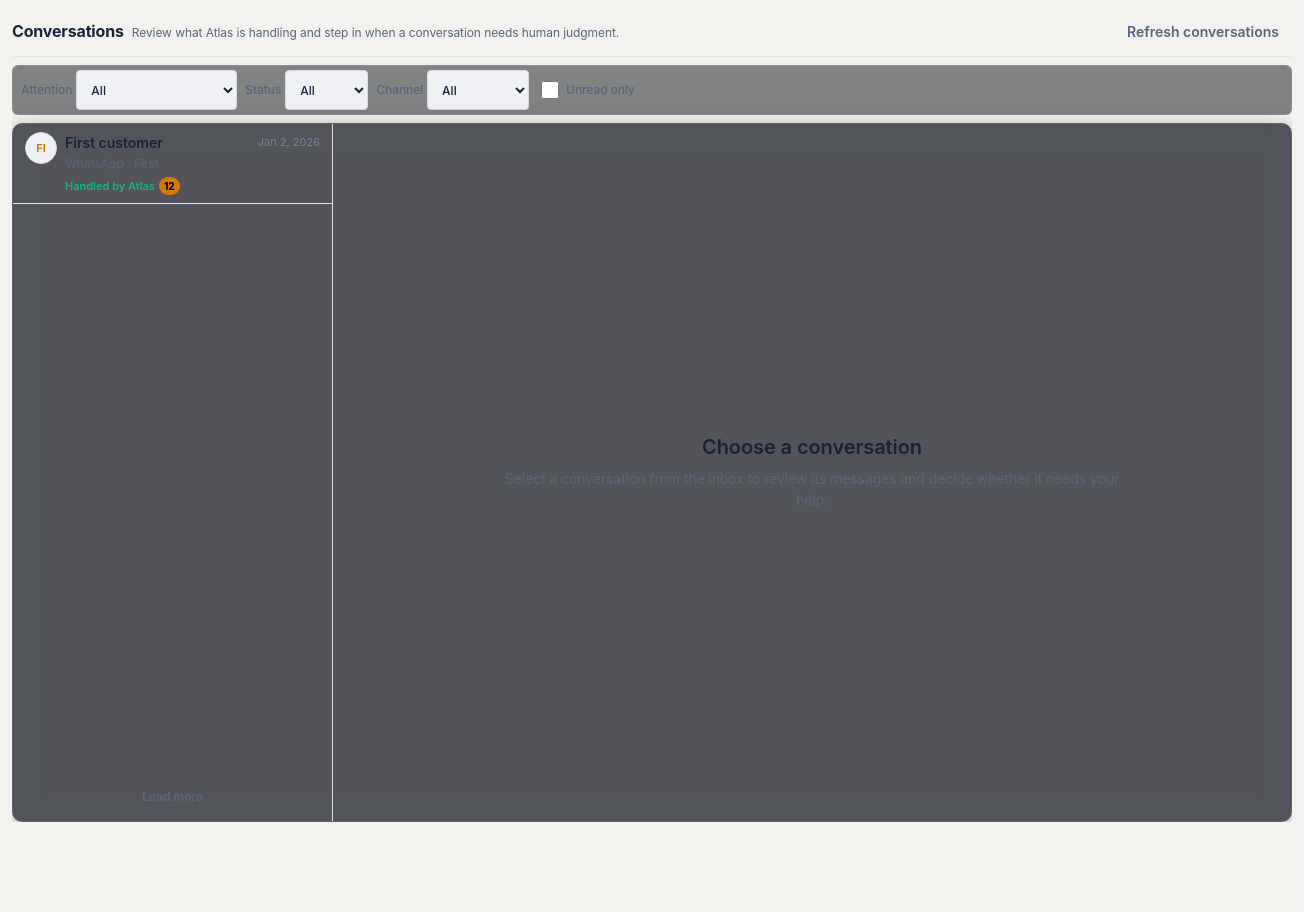
Scenario: appends cursor pages and marks the selected conversation read without a reload
The image size is (1304, 912).
Click the text "First customer": x=114, y=142 [65, 132, 163, 153]
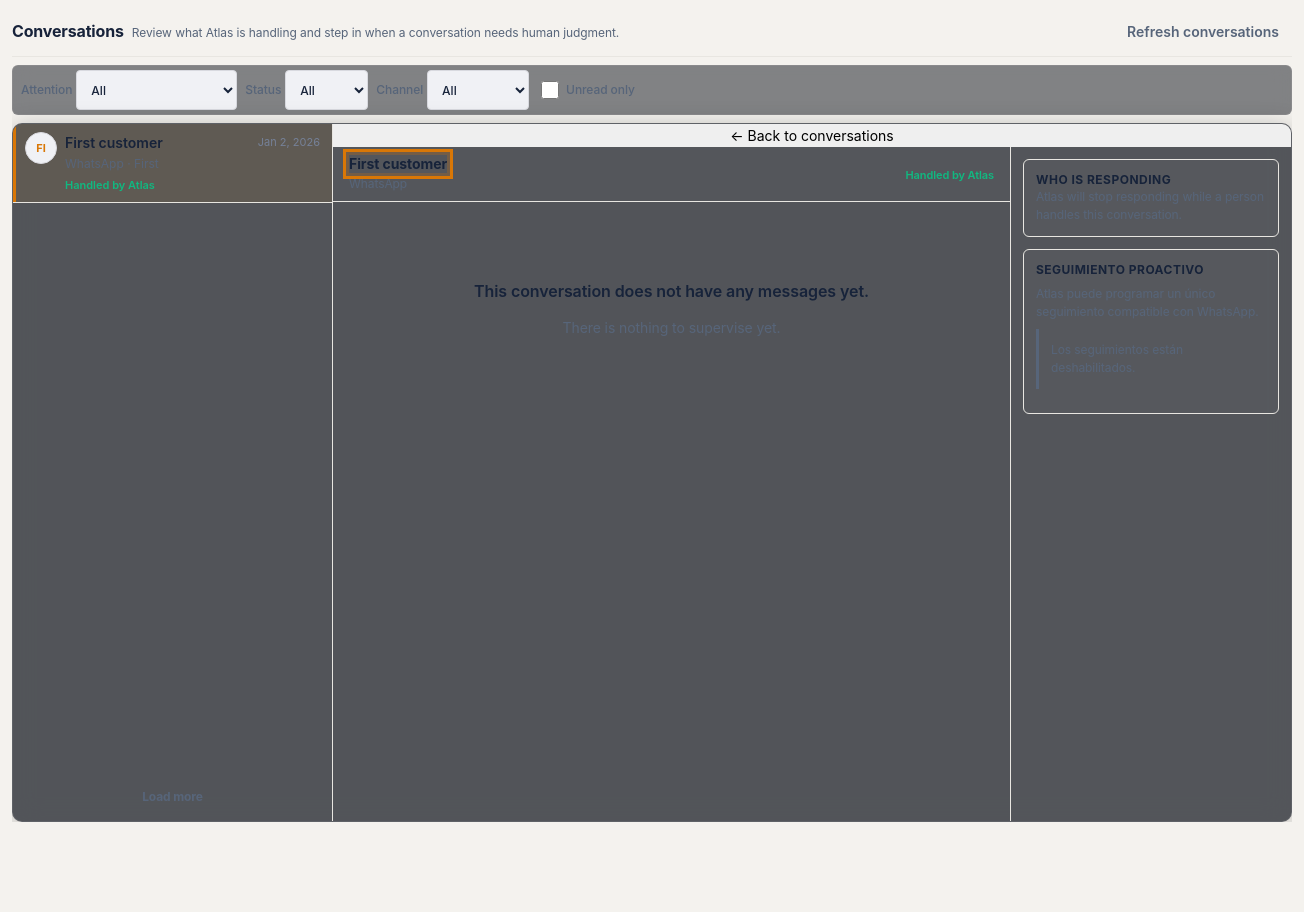
Expected: the text "12" is gone
Click the button "Load more": x=172, y=797 [17, 777, 328, 817]
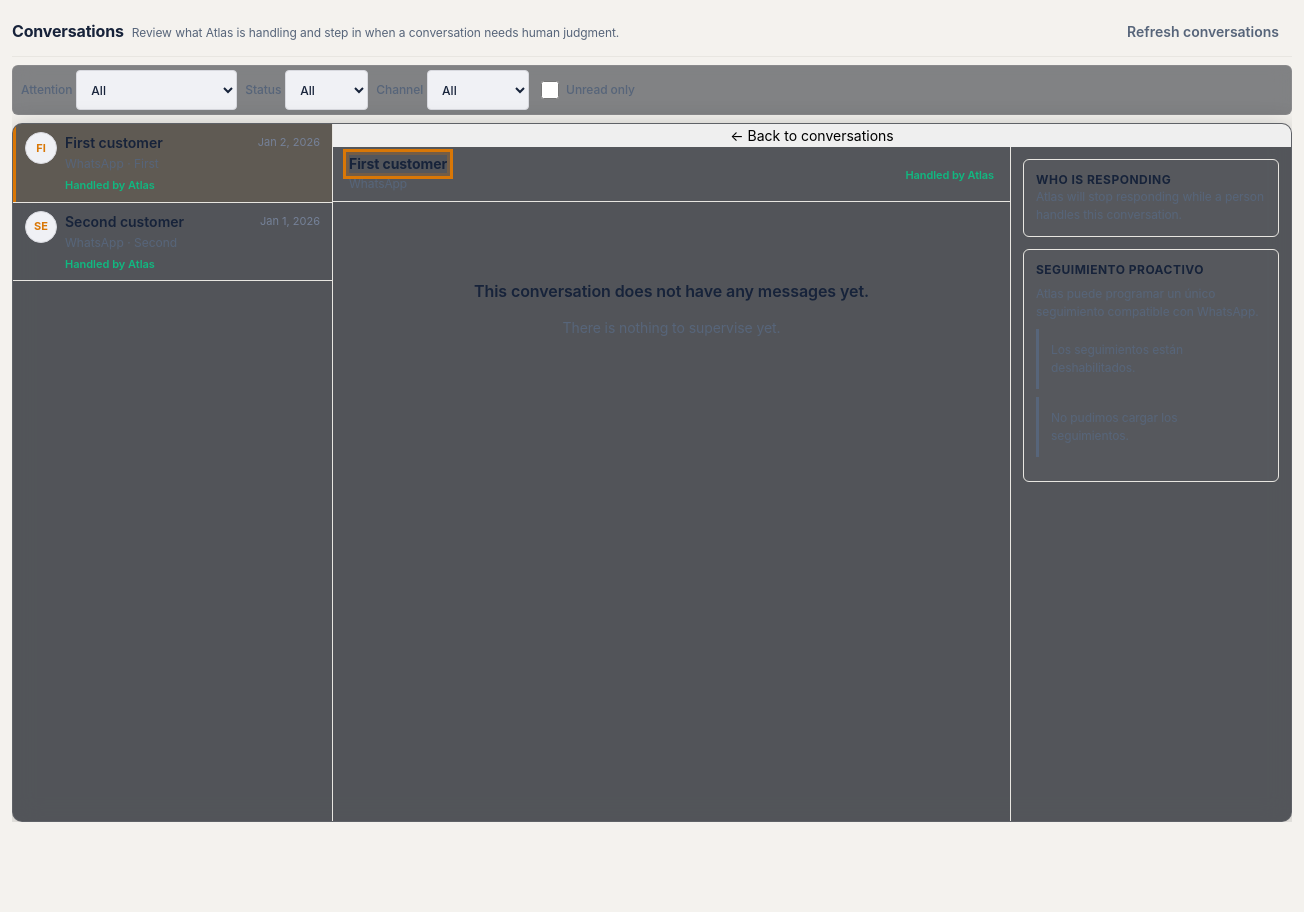
Expected: the text "First customer" is shown, [65, 132, 163, 153]
Expected: the text "Second customer" is shown, [65, 210, 184, 232]
Expected: the button "Load more" is gone
